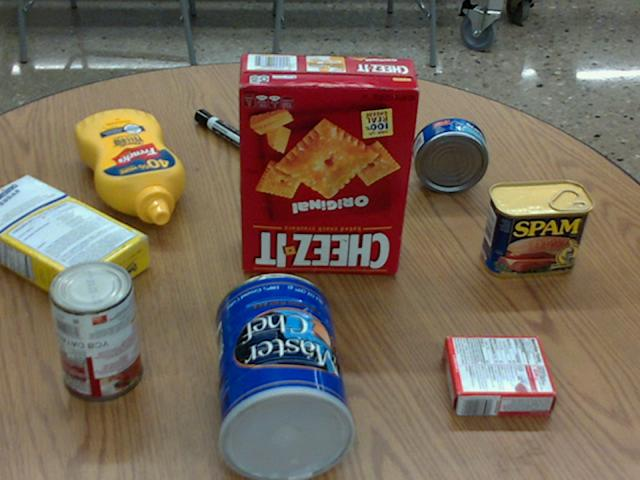cracker_box: (237, 54, 420, 272)
gelatin_box: (441, 334, 557, 414)
large_marker: (194, 109, 264, 157)
master_chef_can: (214, 272, 356, 479)
mug: (278, 60, 368, 149)
mustard_bottle: (74, 109, 184, 224)
potted_meat_can: (480, 179, 593, 278)
sugar_box: (0, 171, 149, 312)
tomato_soup_can: (48, 258, 143, 400)
tuna_fish_can: (411, 117, 487, 192)
